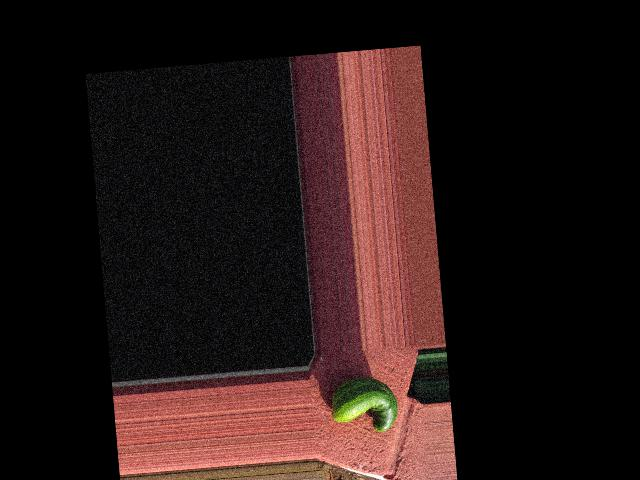cucumber: (329, 375, 399, 436)
